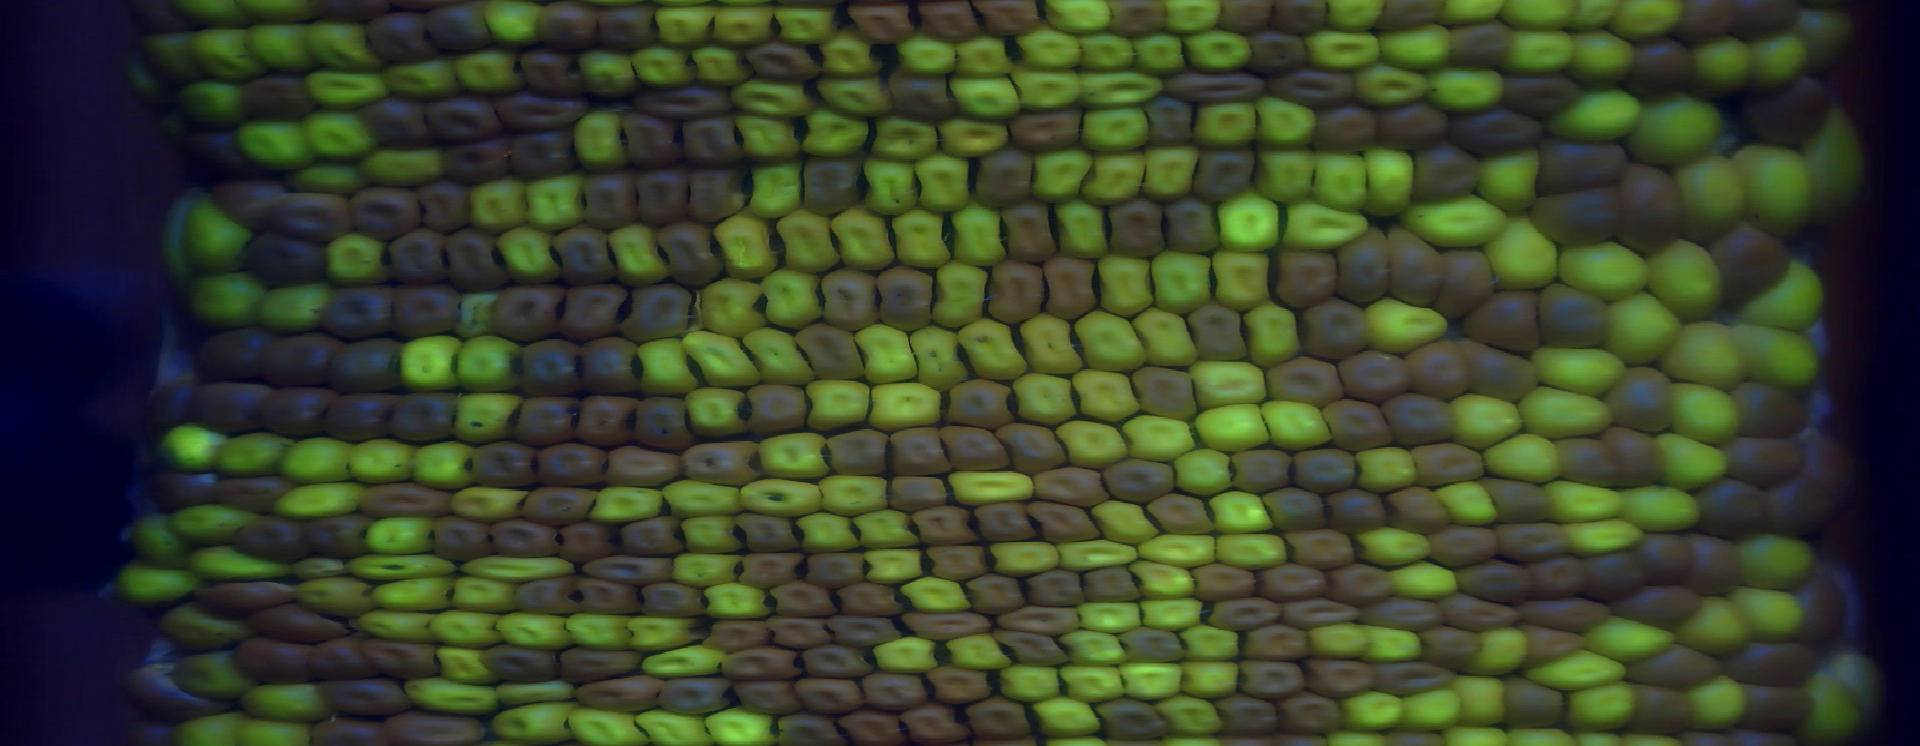fluorescent: (1804, 113, 1861, 227), (1627, 96, 1720, 165), (1738, 147, 1813, 230), (1679, 153, 1749, 240), (1558, 238, 1653, 299), (1648, 243, 1723, 318), (1605, 292, 1685, 363), (1403, 198, 1506, 250), (1522, 383, 1611, 441), (1488, 209, 1555, 285), (1551, 89, 1643, 143), (1741, 325, 1820, 386), (182, 198, 250, 269), (1674, 595, 1749, 659), (1669, 380, 1742, 443), (1660, 326, 1742, 382), (1370, 298, 1449, 356), (1529, 347, 1622, 396), (189, 269, 262, 330), (773, 212, 841, 276), (686, 327, 754, 388), (1278, 203, 1368, 250), (1073, 312, 1145, 369), (1738, 528, 1812, 582), (1658, 434, 1728, 491), (1569, 27, 1638, 85), (1477, 145, 1538, 209), (1093, 252, 1153, 318), (1442, 394, 1523, 443), (252, 284, 328, 334), (696, 283, 763, 339), (1313, 149, 1369, 217), (933, 258, 984, 332), (743, 327, 806, 387), (758, 269, 820, 330), (1524, 650, 1622, 688), (1207, 247, 1269, 307), (833, 207, 893, 268), (1215, 194, 1277, 252), (1619, 485, 1700, 530), (158, 600, 238, 646), (1138, 306, 1198, 366), (853, 323, 915, 382), (1801, 679, 1862, 737), (456, 337, 518, 394), (710, 219, 773, 277), (1735, 586, 1799, 642), (1588, 619, 1671, 661), (1429, 65, 1504, 113), (1019, 312, 1078, 372), (1152, 247, 1209, 310), (890, 209, 953, 266), (191, 541, 278, 582), (759, 432, 833, 480), (804, 377, 869, 431), (1195, 405, 1270, 452), (1484, 437, 1559, 484), (498, 225, 558, 283), (1253, 149, 1313, 207), (1693, 34, 1750, 96), (1380, 22, 1449, 72), (960, 322, 1022, 377), (574, 109, 628, 173), (1073, 369, 1138, 421), (1247, 299, 1299, 364), (236, 118, 307, 165), (280, 437, 351, 485), (1078, 107, 1149, 154), (1368, 149, 1416, 220), (400, 336, 459, 393), (408, 676, 493, 715), (733, 113, 802, 162), (171, 501, 247, 545), (1209, 488, 1275, 538), (131, 516, 189, 573), (638, 337, 696, 394), (196, 27, 255, 83), (1750, 36, 1809, 92), (737, 478, 824, 516), (454, 392, 518, 443), (953, 203, 1000, 272), (1566, 682, 1635, 730), (489, 706, 569, 746), (873, 382, 943, 429), (524, 173, 583, 228), (468, 176, 528, 230), (413, 439, 473, 492), (242, 22, 310, 70), (1550, 478, 1622, 522), (803, 107, 868, 156), (1141, 143, 1198, 200), (607, 225, 665, 281), (749, 160, 803, 219), (176, 654, 246, 699), (861, 160, 913, 220), (306, 22, 373, 69), (360, 147, 440, 186), (1198, 363, 1266, 408), (1058, 421, 1125, 467), (326, 236, 389, 284), (343, 556, 456, 583), (369, 575, 457, 609), (1015, 28, 1084, 72), (1266, 401, 1331, 447), (733, 81, 816, 118), (871, 118, 937, 163), (588, 486, 666, 524), (295, 575, 369, 615), (913, 156, 967, 211), (1056, 201, 1108, 257), (913, 327, 965, 385), (1016, 372, 1074, 424), (1254, 97, 1313, 147), (662, 480, 740, 518), (119, 562, 193, 601), (459, 48, 520, 96), (1357, 66, 1429, 107), (305, 111, 371, 156), (1188, 27, 1250, 73), (276, 478, 354, 514), (160, 423, 219, 472), (1082, 72, 1163, 108), (1309, 29, 1380, 70), (1089, 152, 1141, 206), (216, 436, 290, 474), (1471, 628, 1528, 677), (566, 707, 639, 745), (311, 67, 382, 107), (1509, 29, 1573, 72), (1124, 416, 1193, 457), (1794, 17, 1848, 69), (1033, 149, 1090, 198), (950, 470, 1033, 503), (637, 707, 707, 746), (818, 78, 888, 118), (950, 75, 1020, 114), (1033, 695, 1097, 737), (1196, 99, 1256, 145), (1691, 677, 1742, 730), (634, 44, 696, 88), (1453, 677, 1509, 726), (384, 58, 456, 96), (1215, 532, 1286, 570), (251, 680, 320, 719), (707, 706, 775, 745), (351, 439, 414, 481), (467, 555, 571, 581), (1140, 534, 1221, 567), (366, 518, 436, 556), (1404, 688, 1464, 733), (449, 485, 520, 522), (1060, 537, 1136, 571), (703, 581, 773, 617), (498, 612, 568, 649), (689, 388, 744, 435), (1360, 528, 1428, 566), (580, 50, 637, 96), (1120, 659, 1182, 701), (1130, 559, 1195, 598), (1095, 501, 1153, 544), (1569, 518, 1642, 552), (1392, 562, 1458, 600), (1353, 447, 1413, 489), (1176, 450, 1231, 495), (691, 44, 746, 89), (823, 477, 887, 516), (289, 163, 361, 197), (1311, 621, 1373, 661), (991, 539, 1058, 576), (814, 32, 876, 72), (1438, 483, 1496, 524), (431, 609, 500, 644), (1058, 632, 1127, 668), (942, 119, 1008, 156), (452, 575, 516, 612), (874, 635, 938, 673), (944, 635, 1008, 673), (1178, 659, 1239, 698), (149, 31, 195, 83), (633, 612, 696, 650), (1000, 661, 1063, 699), (793, 513, 853, 552), (953, 36, 1013, 75), (566, 611, 628, 648), (438, 646, 493, 687), (185, 85, 242, 124), (683, 516, 744, 552), (1163, 699, 1224, 736), (858, 511, 920, 548), (710, 7, 771, 44), (353, 612, 429, 642), (647, 650, 722, 680), (675, 552, 742, 586), (658, 7, 713, 48), (904, 577, 970, 610), (1062, 666, 1123, 702), (1043, 2, 1108, 36), (176, 712, 239, 746), (1344, 691, 1401, 729), (1079, 597, 1138, 632), (864, 548, 923, 582), (486, 4, 538, 43), (1138, 597, 1200, 628), (776, 7, 834, 42), (1018, 73, 1076, 107), (1368, 624, 1420, 660), (1162, 1, 1217, 36), (902, 37, 953, 73), (1138, 32, 1182, 73), (493, 684, 574, 706), (1182, 626, 1239, 657), (1081, 36, 1136, 67), (163, 198, 185, 277), (239, 722, 307, 746), (125, 55, 162, 99)
nonfluorescent: (1772, 432, 1848, 537), (1713, 223, 1784, 301), (1749, 82, 1831, 147), (1622, 167, 1679, 255), (1468, 287, 1540, 353), (1533, 192, 1622, 245), (1387, 232, 1447, 309), (1536, 142, 1625, 194), (1700, 481, 1779, 539), (1333, 232, 1392, 309), (438, 225, 508, 290), (1608, 364, 1673, 432), (1728, 639, 1818, 688), (1739, 677, 1813, 736), (1800, 565, 1848, 657), (1537, 285, 1608, 345), (621, 287, 696, 343), (876, 268, 940, 332), (272, 190, 349, 243), (187, 382, 268, 432), (1610, 583, 1700, 628), (1272, 246, 1338, 307), (1630, 40, 1698, 99), (391, 285, 465, 339), (1302, 299, 1371, 356), (495, 281, 561, 341), (1735, 383, 1804, 441), (1040, 255, 1101, 318), (1131, 363, 1196, 423), (1729, 437, 1804, 489), (263, 334, 334, 388), (1469, 347, 1533, 407), (550, 224, 618, 279), (193, 583, 293, 621), (988, 258, 1048, 321), (247, 234, 318, 287), (803, 156, 868, 213), (1452, 109, 1539, 152), (1267, 67, 1357, 109), (1629, 647, 1718, 688), (253, 601, 351, 639), (322, 285, 392, 338), (496, 89, 582, 132), (658, 220, 718, 282), (580, 334, 639, 397), (1269, 358, 1343, 407), (198, 325, 263, 381), (973, 148, 1033, 208), (1103, 197, 1163, 257), (1692, 532, 1744, 601), (391, 392, 456, 447), (362, 97, 429, 151), (1337, 353, 1409, 402), (620, 111, 678, 171), (636, 397, 694, 457), (1408, 338, 1468, 397), (518, 337, 579, 394), (1004, 201, 1060, 263), (362, 477, 444, 519), (1389, 392, 1458, 442), (533, 442, 610, 488), (233, 514, 310, 560), (320, 677, 408, 717), (349, 187, 418, 238), (560, 282, 623, 336), (1002, 424, 1067, 477), (1438, 595, 1524, 635), (211, 179, 277, 230), (260, 387, 331, 435), (798, 323, 858, 380), (1184, 305, 1245, 360), (1163, 67, 1265, 100), (684, 169, 748, 222), (1324, 402, 1393, 450), (1029, 499, 1098, 546), (1554, 432, 1614, 488), (576, 675, 662, 713), (1414, 148, 1476, 202), (1414, 439, 1482, 488), (1314, 99, 1376, 152), (640, 85, 726, 122), (393, 232, 451, 288), (1505, 676, 1562, 733), (235, 639, 309, 684), (1439, 249, 1487, 316), (889, 428, 951, 479), (1378, 107, 1446, 153), (427, 94, 500, 138), (820, 269, 877, 326), (340, 333, 397, 390), (609, 446, 684, 488), (583, 555, 669, 592), (1613, 426, 1664, 488), (159, 465, 227, 512), (1275, 688, 1342, 735), (1386, 485, 1451, 533), (1196, 147, 1256, 198), (365, 13, 431, 60), (945, 424, 1007, 474), (1103, 459, 1179, 500), (898, 702, 973, 742), (634, 168, 689, 223), (1145, 92, 1198, 149), (1633, 681, 1692, 733), (1580, 552, 1638, 604), (331, 390, 391, 440), (1031, 467, 1104, 507), (244, 71, 307, 118), (949, 379, 1013, 425), (593, 2, 658, 48), (1633, 532, 1693, 581), (1360, 597, 1438, 635), (1010, 108, 1085, 147), (1460, 563, 1532, 604), (468, 443, 534, 488), (747, 382, 804, 432), (894, 72, 958, 118), (487, 518, 558, 559), (1449, 20, 1509, 67), (1489, 477, 1550, 523), (1289, 450, 1356, 492), (746, 42, 818, 81), (533, 2, 595, 48), (525, 481, 588, 527), (1164, 197, 1215, 254), (425, 7, 489, 51), (1205, 595, 1278, 633), (220, 474, 291, 513), (825, 428, 887, 473), (576, 391, 628, 443), (507, 136, 576, 176), (579, 171, 633, 223), (440, 141, 506, 183), (720, 644, 795, 681), (683, 443, 756, 481), (1284, 529, 1357, 567), (1369, 660, 1449, 695), (1520, 625, 1583, 668), (915, 1, 982, 42), (513, 394, 573, 440), (415, 180, 468, 232), (1512, 73, 1573, 118), (1496, 522, 1569, 559), (1118, 630, 1188, 668), (1250, 24, 1303, 75), (435, 514, 489, 563), (1231, 450, 1292, 492), (852, 2, 913, 45), (615, 516, 680, 556), (1528, 598, 1604, 632), (392, 713, 480, 742), (1262, 488, 1321, 532), (518, 578, 582, 619), (683, 115, 740, 160), (309, 642, 370, 684), (773, 577, 838, 616), (973, 501, 1036, 541), (926, 541, 988, 582), (1262, 563, 1329, 601), (737, 512, 798, 552), (656, 677, 724, 714), (1431, 530, 1499, 567), (965, 575, 1022, 617), (1332, 563, 1390, 606), (557, 650, 640, 680), (1103, 696, 1162, 737), (1149, 492, 1209, 533), (1244, 624, 1308, 661), (307, 522, 369, 561), (311, 715, 389, 746), (928, 666, 989, 706), (1238, 663, 1305, 698), (482, 643, 557, 675), (143, 387, 187, 441), (366, 639, 432, 675), (1424, 626, 1480, 668), (1305, 661, 1375, 695), (918, 506, 973, 548), (861, 675, 923, 712), (189, 131, 238, 178), (969, 699, 1029, 737), (907, 609, 988, 637), (729, 681, 797, 714), (802, 646, 873, 677), (1218, 692, 1273, 733), (998, 628, 1063, 663), (1282, 599, 1357, 628), (1195, 562, 1259, 597), (1029, 570, 1082, 610), (574, 577, 636, 612), (885, 477, 950, 510), (797, 679, 860, 713), (1326, 488, 1378, 529), (804, 551, 864, 587), (768, 619, 831, 652), (636, 582, 704, 612), (707, 619, 770, 650), (563, 521, 615, 560), (831, 617, 900, 647), (1104, 2, 1163, 37), (838, 583, 898, 616), (740, 549, 797, 583), (984, 2, 1043, 36), (779, 712, 835, 746), (1003, 606, 1078, 632), (1221, 1, 1275, 37), (1082, 567, 1138, 601), (522, 49, 571, 87), (1533, 557, 1580, 597), (838, 713, 902, 740), (1277, 2, 1322, 38)
